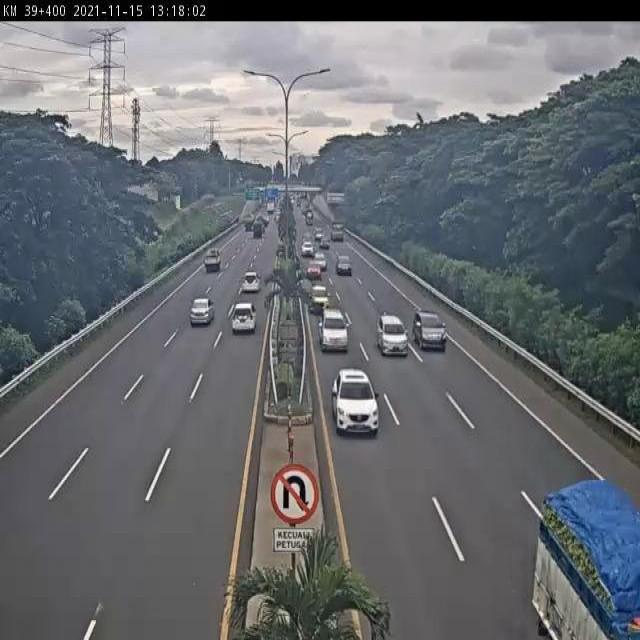car: (331, 368, 380, 435), (375, 310, 411, 358), (412, 308, 450, 353), (318, 307, 349, 353), (229, 301, 258, 335), (188, 294, 216, 326), (306, 285, 332, 315), (239, 268, 262, 296)
